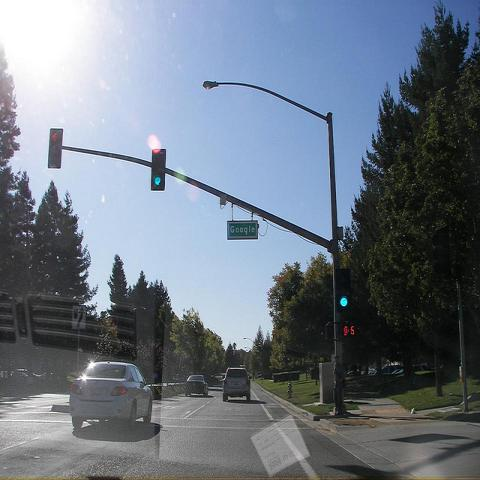car: (70, 364, 154, 434), (222, 366, 251, 401), (184, 374, 208, 398), (381, 364, 403, 374), (257, 373, 262, 379), (347, 370, 353, 374)
